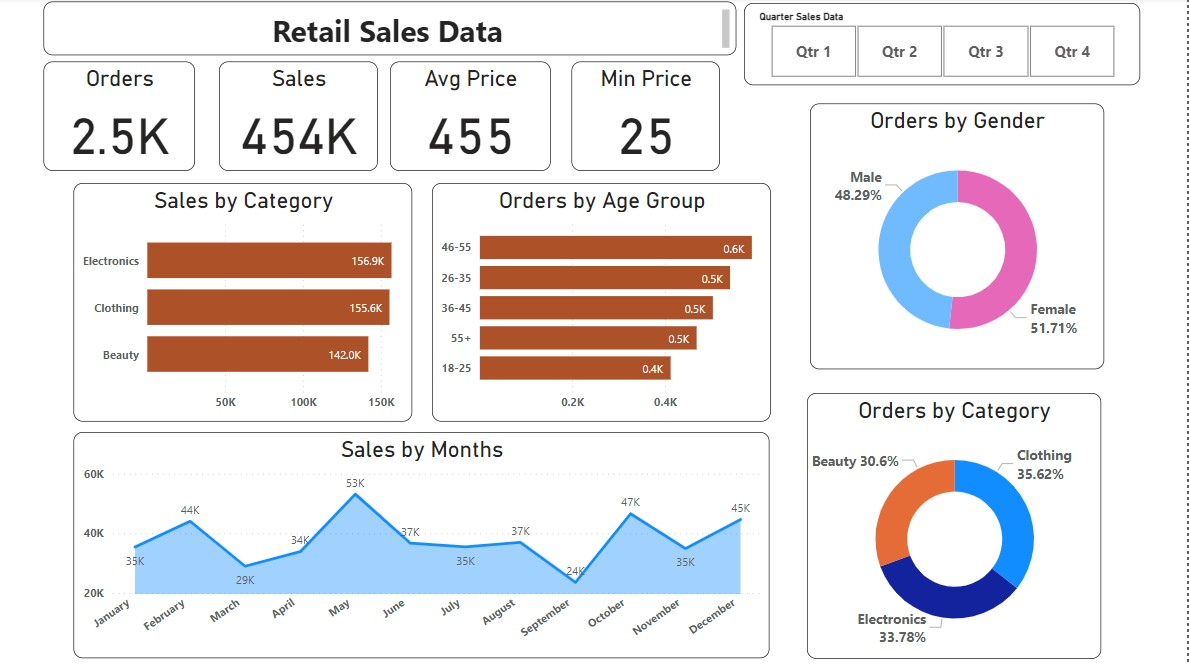

The dashboard page shown, as its layout file describes it:
{"tool":"powerbi","page":{"name":"Page 1","canvas":[1280,720],"ordinal":0},"visuals":[{"type":"card","title":"Orders","fields":{"Values":["Sum(Sheet1.Quantity)"]},"box":[46.9,69.6,163.4,118.1],"z":0},{"type":"card","title":"Sales","fields":{"Values":["Sum(Sheet1.Total Amount)"]},"box":[236.2,69.6,171.5,118.1],"z":1000},{"type":"card","title":"Avg Price","fields":{"Values":["Avg(Sheet1.Total Amount)"]},"box":[420.7,69.6,173.1,118.1],"z":2000},{"type":"barChart","title":"Sales by Category","fields":{"Category":["Sheet1.Product Category"],"Y":["Sum(Sheet1.Total Amount)"]},"box":[79.3,200.6,365.7,257.3],"z":3000},{"type":"donutChart","title":"Orders by Gender","fields":{"Category":["Sheet1.Gender"],"Y":["Sum(Sheet1.Quantity)"]},"box":[873.7,114.9,317.1,286.4],"z":4000},{"type":"barChart","title":"Orders by Age Group","fields":{"Category":["Sheet1.Age Group"],"Y":["Sum(Sheet1.Quantity)"]},"box":[466,200.6,365.7,257.3],"z":5000},{"type":"textbox","box":[46.9,4.9,747.5,58.2],"z":6000},{"type":"areaChart","title":"Sales by Months","fields":{"Category":["Sheet1.Date.Variation.Date Hierarchy.Month"],"Y":["Sum(Sheet1.Total Amount)"]},"box":[79.3,469.2,750.7,244.3],"z":7000},{"type":"slicer","fields":{"Values":["Sheet1.Date.Variation.Date Hierarchy.Quarter"]},"box":[802.5,6.5,427.1,89],"z":7001},{"type":"donutChart","title":"Orders by Category","fields":{"Y":["Sum(Sheet1.Quantity)"],"Category":["Sheet1.Product Category"]},"box":[870.5,427.1,317.1,286.4],"z":7002},{"type":"card","title":"Min Price","fields":{"Values":["Min(Sheet1.Total Amount)"]},"box":[616.4,69.6,160.2,118.1],"z":7003}]}

Visuals, with their boxes in screenshot pixels (x1, y1, x2, y2), scaled from the page's 1280x720 canvas onto the 1189x664 screenshot:
"Orders" card: bbox=(44, 64, 195, 173)
"Sales" card: bbox=(219, 64, 379, 173)
"Avg Price" card: bbox=(391, 64, 552, 173)
"Sales by Category" barChart: bbox=(74, 185, 413, 422)
"Orders by Gender" donutChart: bbox=(812, 106, 1106, 370)
"Orders by Age Group" barChart: bbox=(433, 185, 773, 422)
textbox: bbox=(44, 5, 738, 58)
"Sales by Months" areaChart: bbox=(74, 433, 771, 658)
slicer - Sheet1.Date.Variation.Date Hierarchy.Quarter: bbox=(745, 6, 1142, 88)
"Orders by Category" donutChart: bbox=(809, 394, 1103, 658)
"Min Price" card: bbox=(573, 64, 721, 173)
